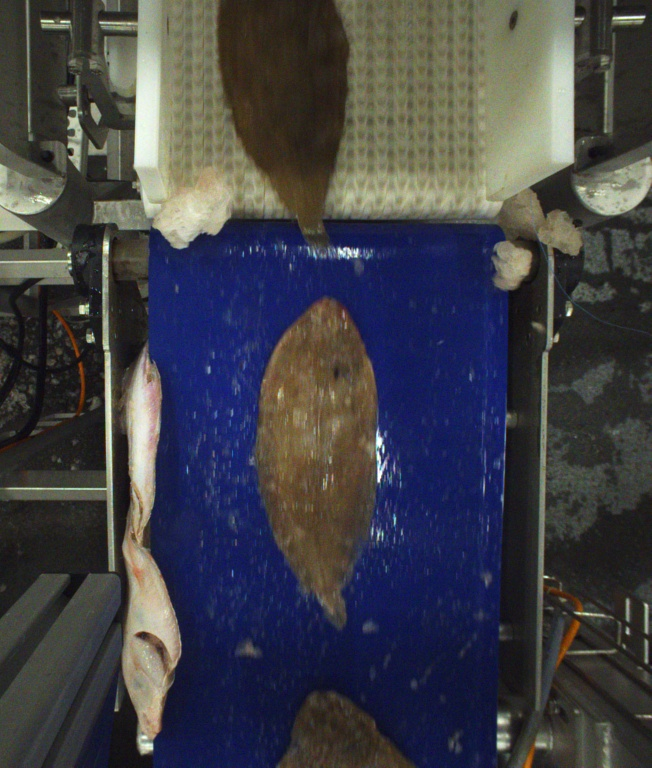SOL: (216, 0, 349, 255)
